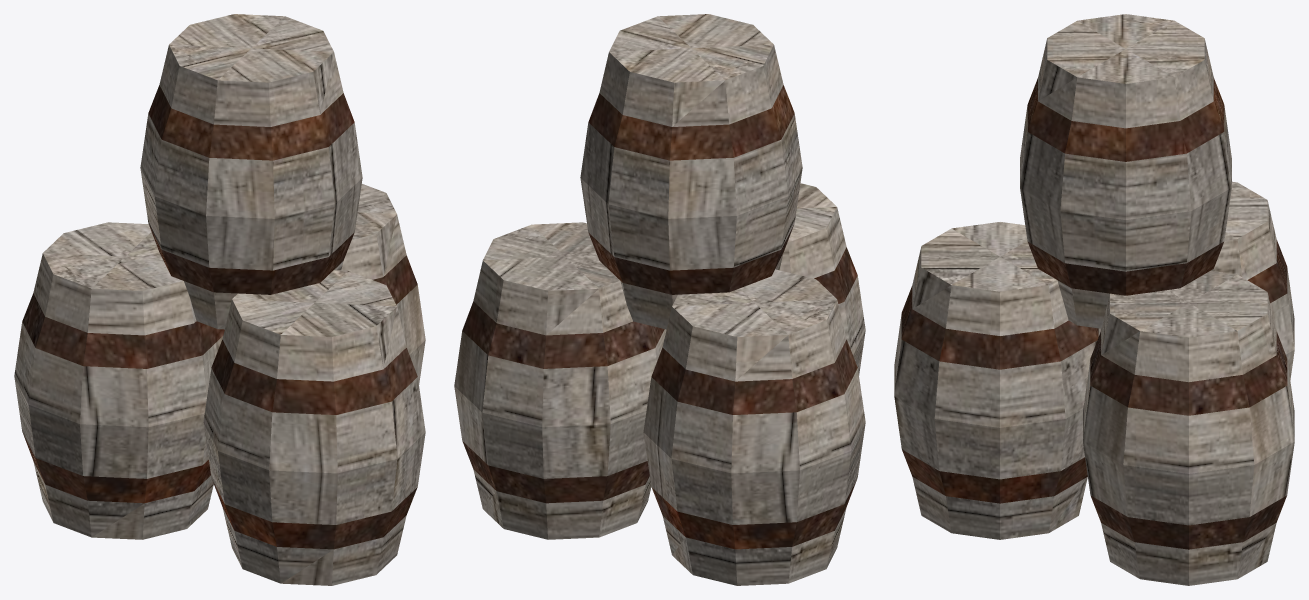
The model's file is barrel_stack_v2_tex.glb.
3 views of the same model, side by side, from view 1: azimuth 30°, elevation 25°; view 2: azimuth 150°, elevation 25°; view 3: azimuth 270°, elevation 25° (orthographic).
Parts seen in each view (by area): view 1: barrel_stack_v2; view 2: barrel_stack_v2; view 3: barrel_stack_v2.
Boxes of the visible parts, x1=… form: barrel_stack_v2: x1=14, y1=14, x2=425, y2=585; barrel_stack_v2: x1=454, y1=14, x2=865, y2=585; barrel_stack_v2: x1=894, y1=14, x2=1294, y2=585.
Size of the model in its own units: 1.38 by 1.58 by 1.26.
Materials: 1 (1 with a texture image).
